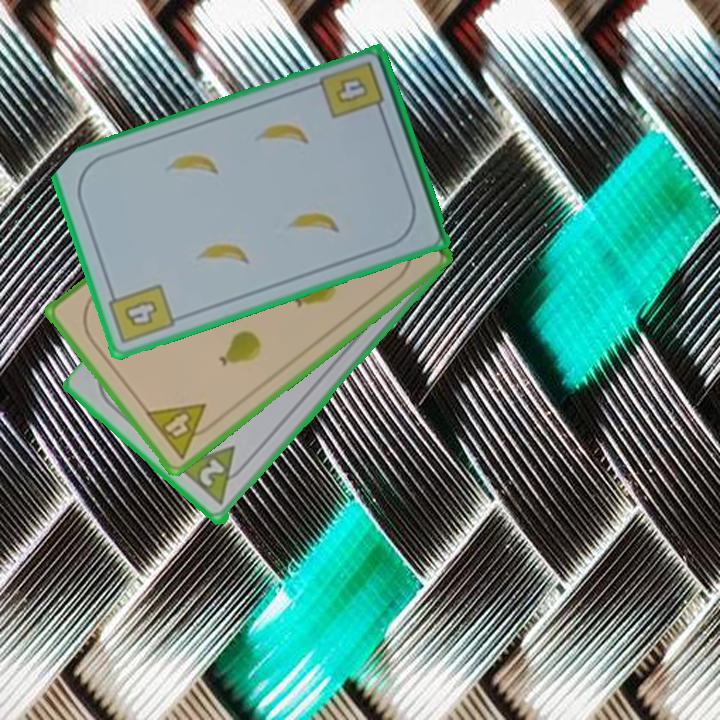2p: (195, 455, 228, 491)
4b: (104, 280, 178, 348), (318, 58, 388, 123)
4p: (141, 400, 222, 463)
